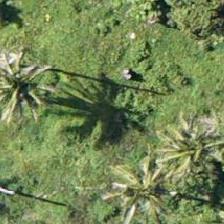coconut_tree: (143, 96, 223, 186), (74, 153, 164, 223), (0, 40, 66, 130)
